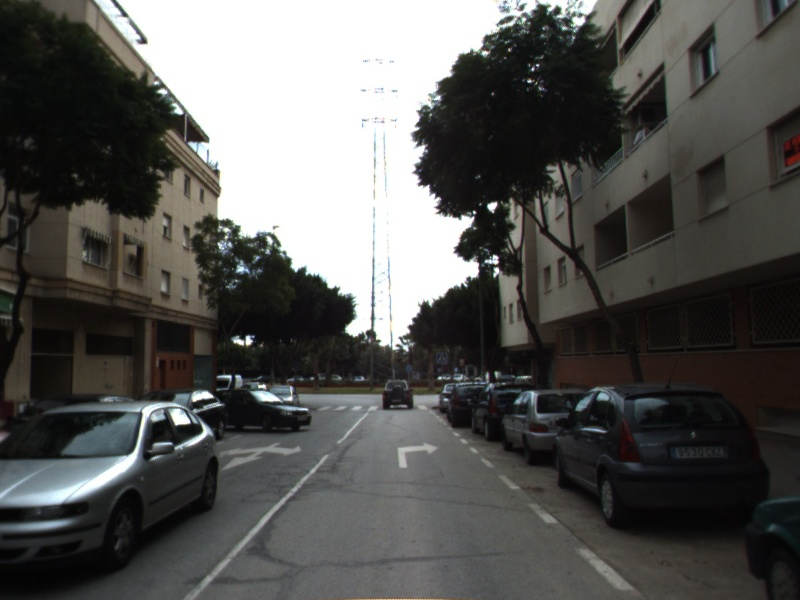RIGHT: (395, 440, 442, 470)
